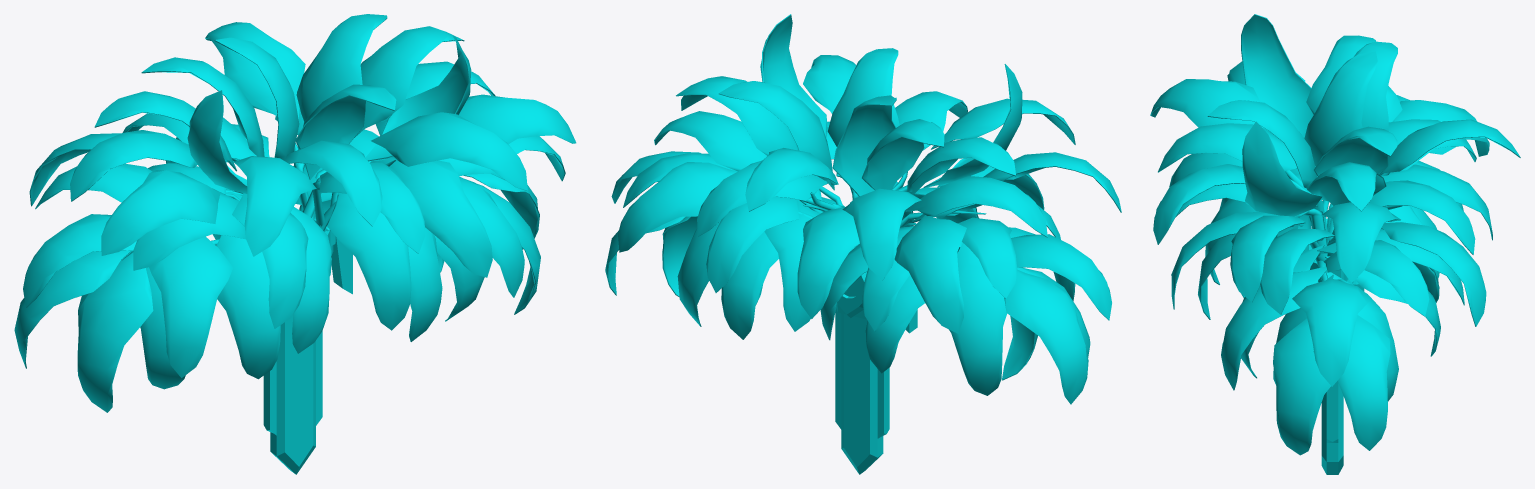
The model's file is FloatingPlant.fbx.
3 renders of one model, left to right at view 1: azimuth 30°, elevation 25°; view 2: azimuth 150°, elevation 25°; view 3: azimuth 270°, elevation 25°, orthographic. The views are drawn at different scales.
Visible parts, largest first — view 1: Leaves, Holder, Branches; view 2: Leaves, Holder, Branches; view 3: Leaves, Holder, Branches.
Part boxes in pixels (x1,y1,x2,y2): Leaves: (14, 14, 576, 412); Holder: (263, 218, 352, 474); Branches: (211, 143, 395, 245); Leaves: (605, 14, 1121, 404); Holder: (835, 247, 917, 474); Branches: (798, 171, 986, 247); Leaves: (1150, 14, 1520, 455); Holder: (1303, 218, 1364, 474); Branches: (1285, 170, 1402, 281).
Size of the model in its own units: 71.61 by 56.18 by 46.07.
